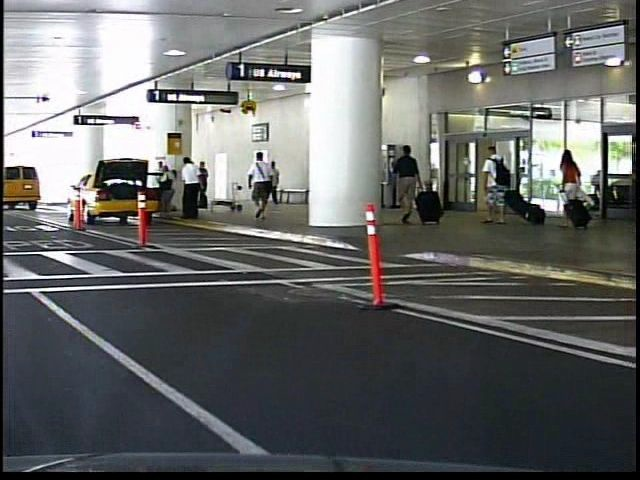person: (477, 140, 514, 225), (551, 144, 586, 229), (388, 142, 419, 228), (241, 148, 273, 222), (255, 161, 275, 208)
